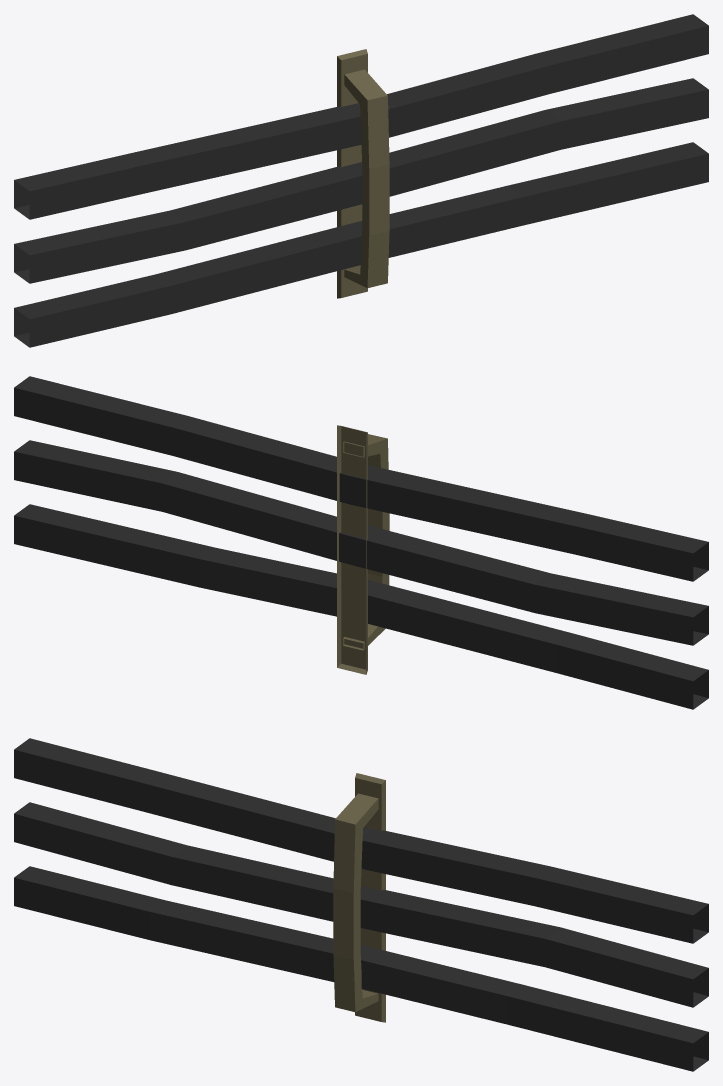
File: SW_ENV_Wires3_StationWall_1m.fbx
3 renders of one model, top to bottom at view 1: azimuth 30°, elevation 25°; view 2: azimuth 150°, elevation 25°; view 3: azimuth 330°, elevation 25°, orthographic.
Parts seen in each view (by area): view 1: SW_ENV_Wires3_StationWall_1m; view 2: SW_ENV_Wires3_StationWall_1m; view 3: SW_ENV_Wires3_StationWall_1m.
Part boxes in pixels (left/top/right/bottom): SW_ENV_Wires3_StationWall_1m: left=14, top=14, right=708, bottom=347; SW_ENV_Wires3_StationWall_1m: left=14, top=376, right=708, bottom=709; SW_ENV_Wires3_StationWall_1m: left=14, top=738, right=708, bottom=1071.
Size of the model in its own units: 100 by 34.12 by 7.06.
